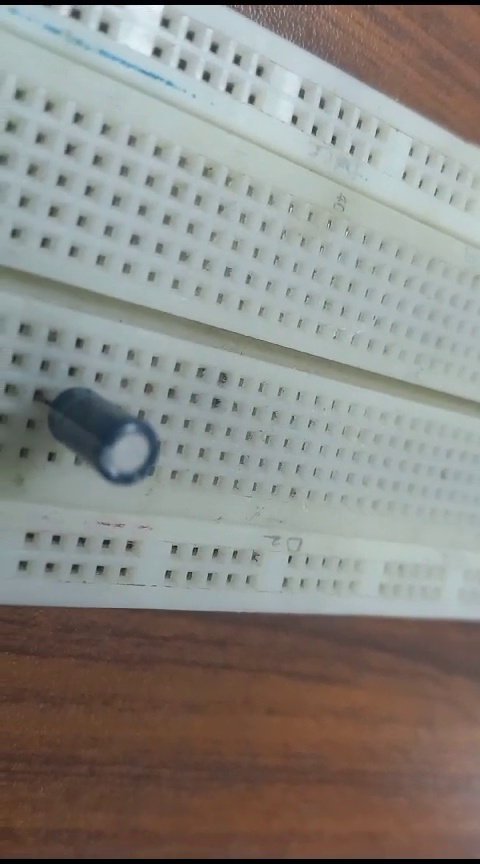capacitor: (35, 360, 179, 489)
